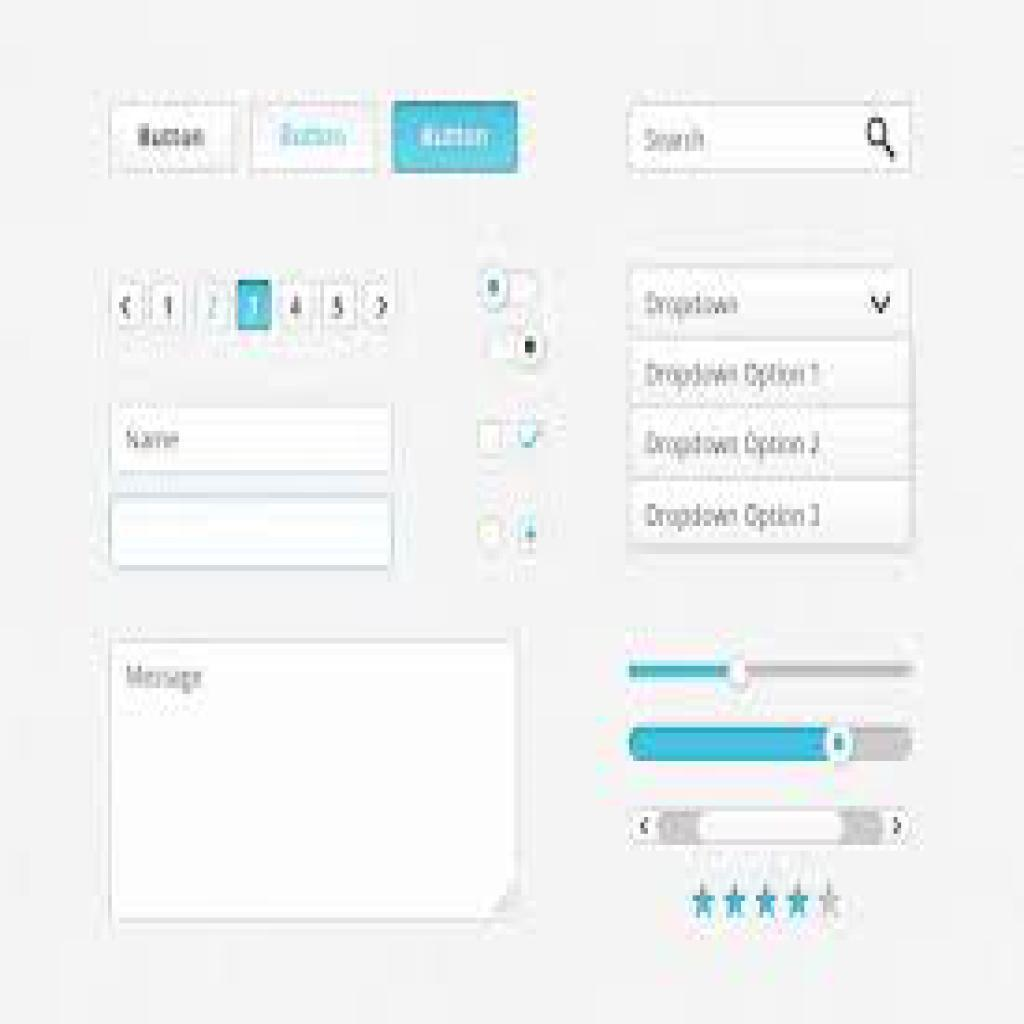button: (110, 103, 234, 173), (392, 102, 515, 172), (248, 104, 372, 170)
checkbox: (474, 422, 501, 455)
dropdown: (629, 268, 913, 342)
input: (110, 491, 392, 565), (110, 399, 391, 472)
radio: (628, 102, 911, 173), (472, 515, 505, 553)
switch: (482, 322, 548, 371), (476, 262, 544, 309)
